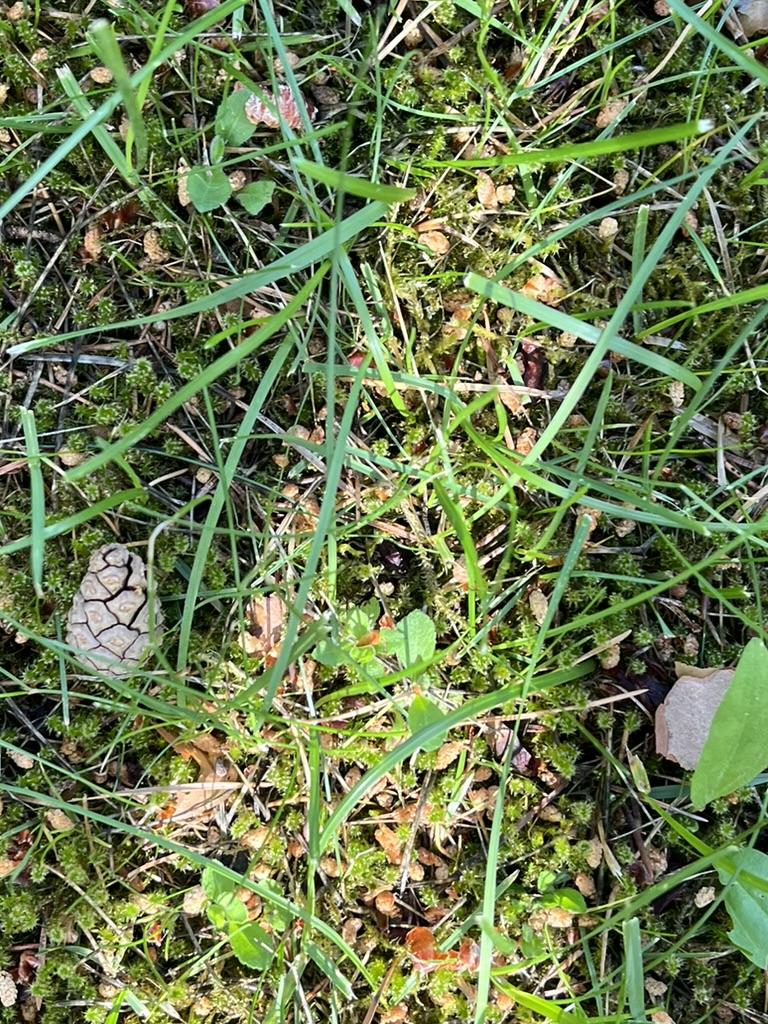pine: (56, 533, 186, 703)
